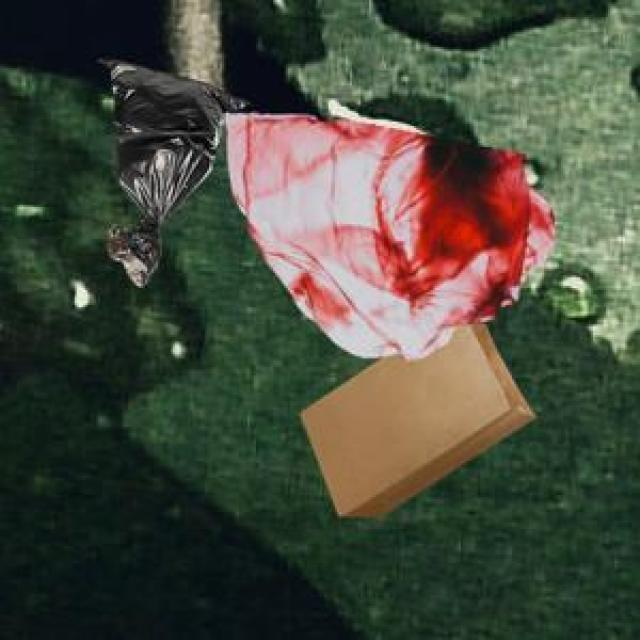miscellaneous trash: (97, 56, 245, 282)
paper: (297, 320, 531, 512)
